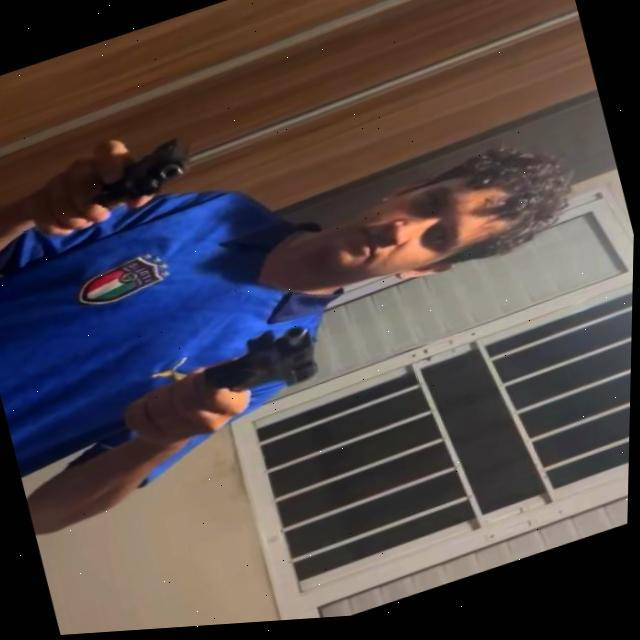gun: (196, 318, 328, 416), (92, 132, 204, 212)
